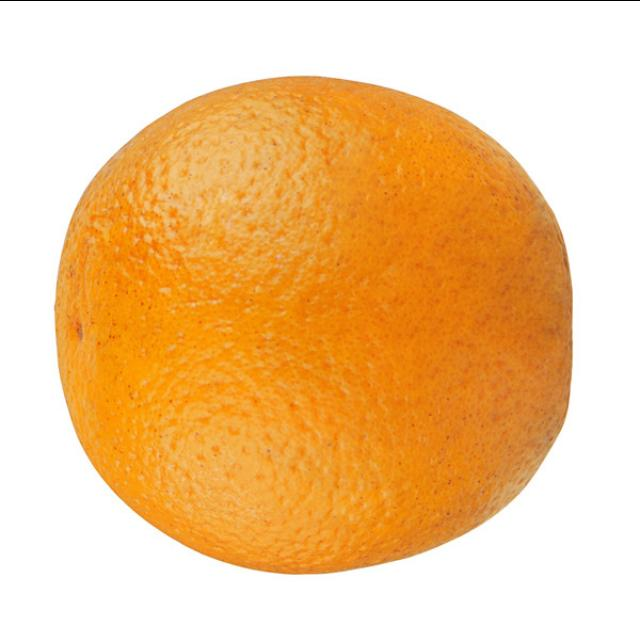Oranges: (51, 76, 574, 576)
